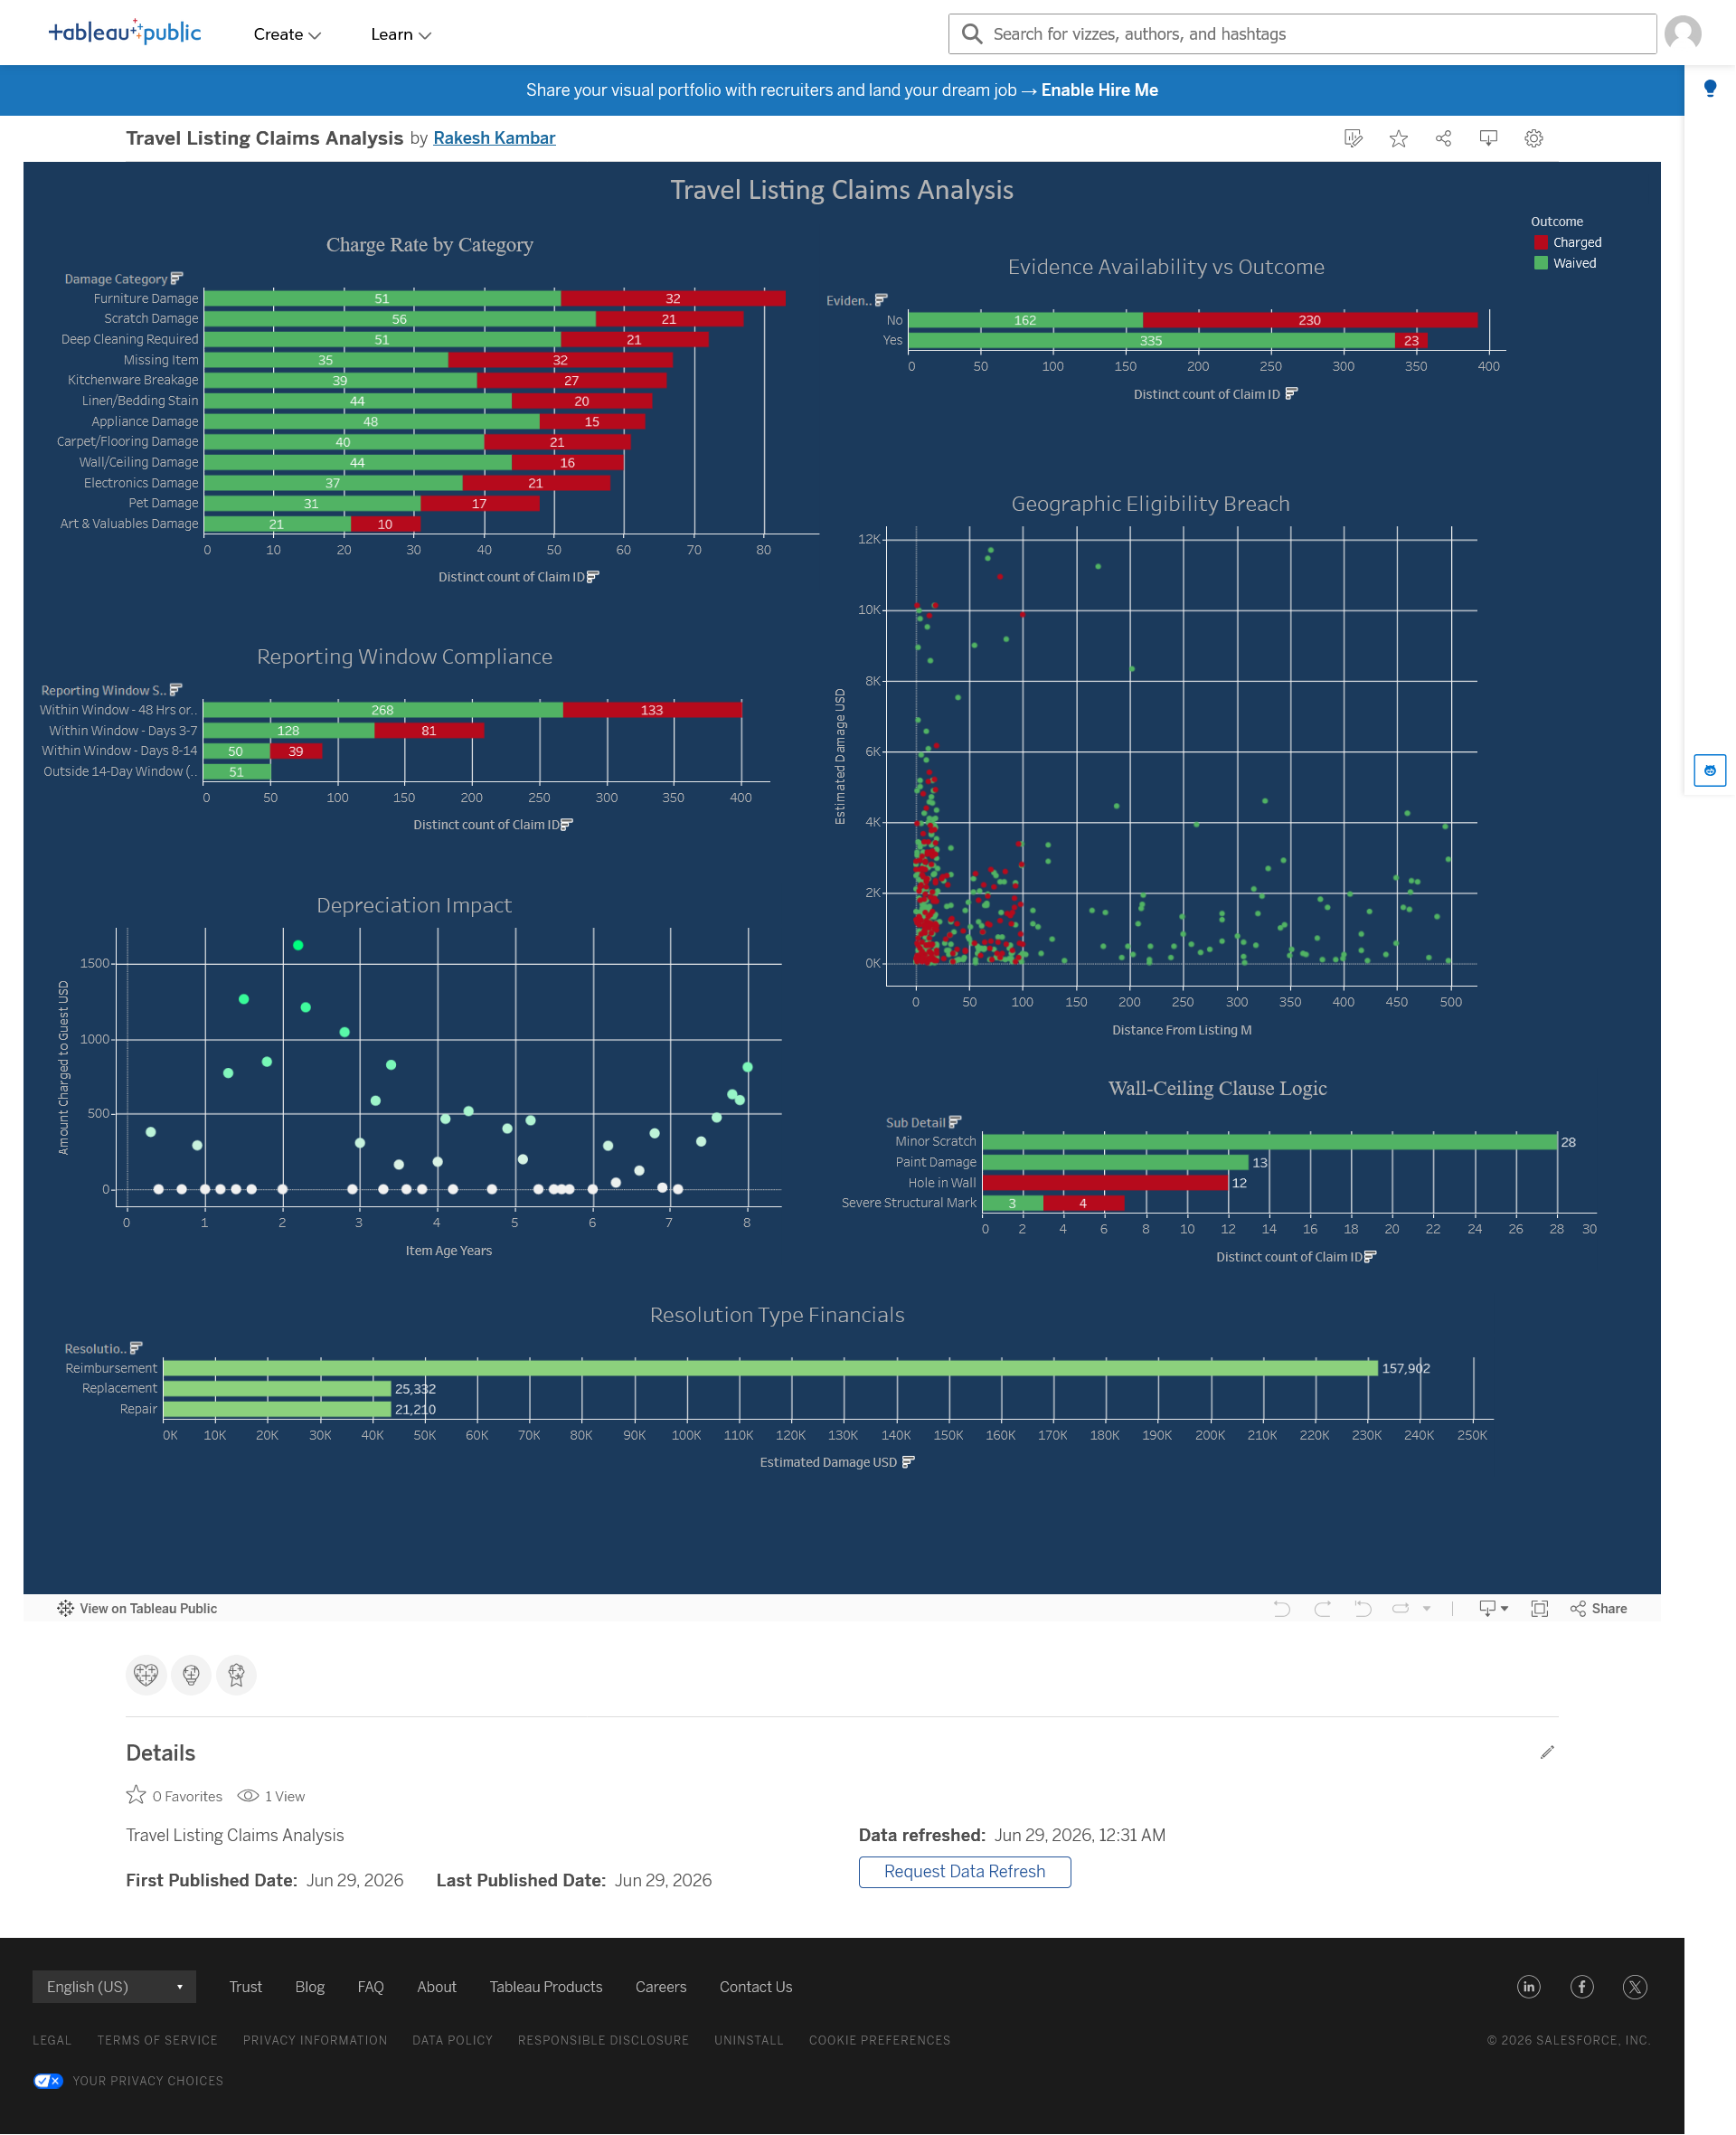

Layout of this report page (visuals, bound fields, positions):
{"tool":"tableau","page":{"name":"Travel Listing Claims Analysis","canvas":[1600,1400],"ordinal":0},"visuals":[{"type":"title","box":[8,8,1584,54]},{"type":"worksheet","title":"Charge Rate by Category","mark":"Automatic","rows":["Damage_Category"],"cols":["Claim_ID"],"box":[16,61,762,411]},{"type":"legend","title":"Evidence Availability vs Outcome","param":"[federated.1dzt76312j1cmn18io7m419rejud].[none:Outcome:nk]","box":[1469,62,123,72]},{"type":"worksheet","title":"Evidence Availability vs Outcome","mark":"Automatic","rows":["Evidence_Available"],"cols":["Claim_ID"],"box":[784,81,665,216]},{"type":"worksheet","title":"Geographic Eligibility Breach","mark":"Circle","rows":["Estimated_Damage_USD"],"cols":["Distance_From_Listing_M"],"box":[782,313,639,549]},{"type":"worksheet","title":"Reporting Window Compliance","mark":"Automatic","rows":["Reporting_Window_Status"],"cols":["Claim_ID"],"box":[15,462,715,233]},{"type":"worksheet","title":"Depreciation Impact","mark":"Circle","rows":["Amount_Charged_to_Guest_USD"],"cols":["Item_Age_Years"],"box":[23,705,718,373]},{"type":"worksheet","title":"Wall-Ceiling Clause Logic","mark":"Automatic","rows":["Sub_Detail"],"cols":["Claim_ID"],"box":[796,885,742,332]},{"type":"worksheet","title":"Resolution Type Financials","mark":"Automatic","rows":["Resolution_Type"],"cols":["Estimated_Damage_USD"],"box":[36,1105,1401,220]}]}

Visuals, with their boxes on the page's 1600x1400 design canvas (x1, y1, x2, y2). These are canvas units, not pixel positions in the 1736x2135 screenshot, which may show the page scaled, cropped or inside an application window:
title: [left=8, top=8, right=1592, bottom=62]
"Charge Rate by Category" worksheet: [left=16, top=61, right=778, bottom=472]
"Evidence Availability vs Outcome" legend: [left=1469, top=62, right=1592, bottom=134]
"Evidence Availability vs Outcome" worksheet: [left=784, top=81, right=1449, bottom=297]
"Geographic Eligibility Breach" worksheet (Circle marks): [left=782, top=313, right=1421, bottom=862]
"Reporting Window Compliance" worksheet: [left=15, top=462, right=730, bottom=695]
"Depreciation Impact" worksheet (Circle marks): [left=23, top=705, right=741, bottom=1078]
"Wall-Ceiling Clause Logic" worksheet: [left=796, top=885, right=1538, bottom=1217]
"Resolution Type Financials" worksheet: [left=36, top=1105, right=1437, bottom=1325]
